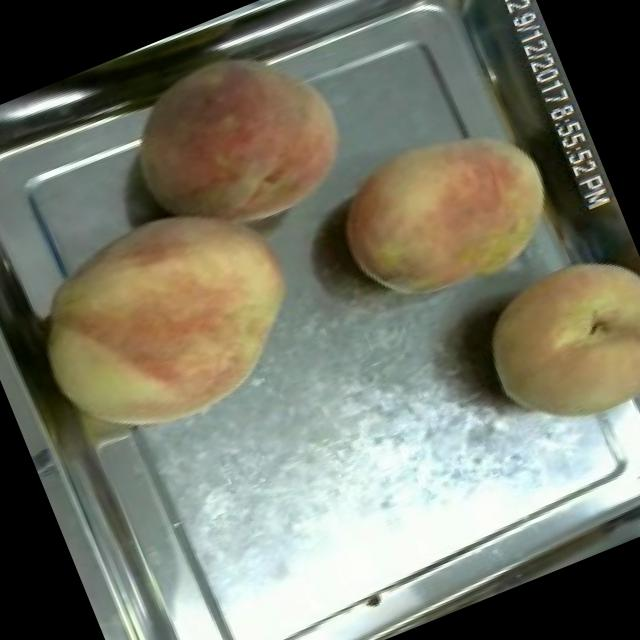Fruit: (0, 166, 340, 474), (100, 12, 374, 272), (313, 94, 582, 334), (455, 228, 640, 459)
